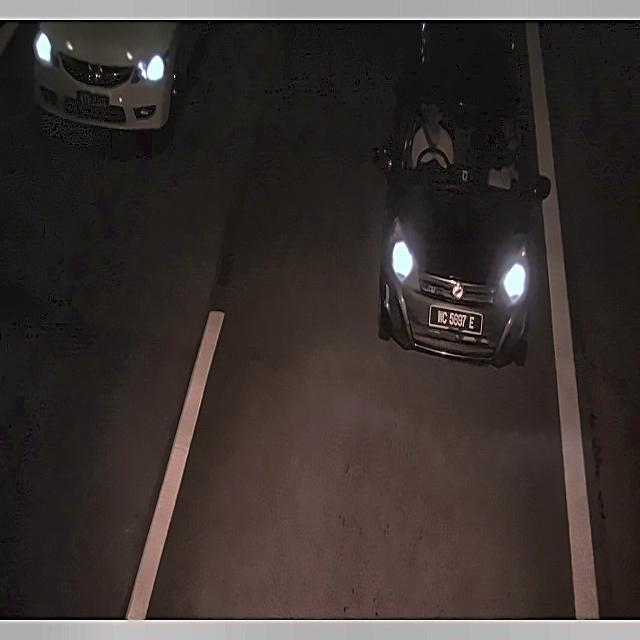car: (428, 299, 488, 341), (72, 82, 114, 113)
